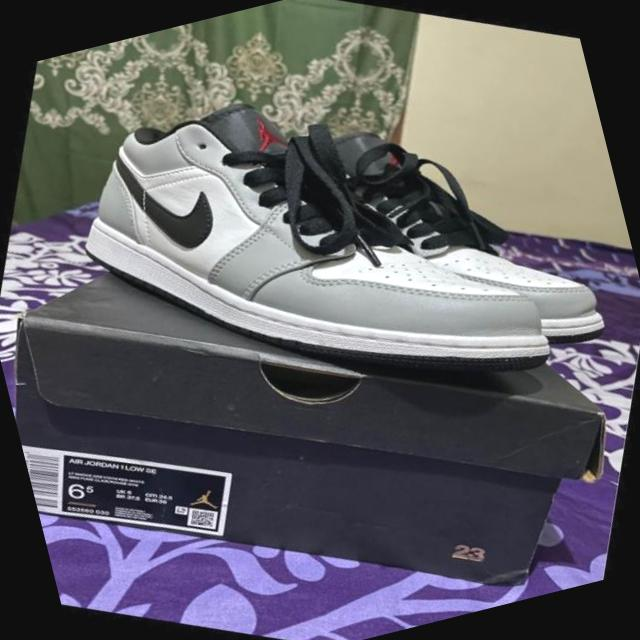nike_original_jordan: (24, 0, 635, 495), (254, 55, 640, 432)
